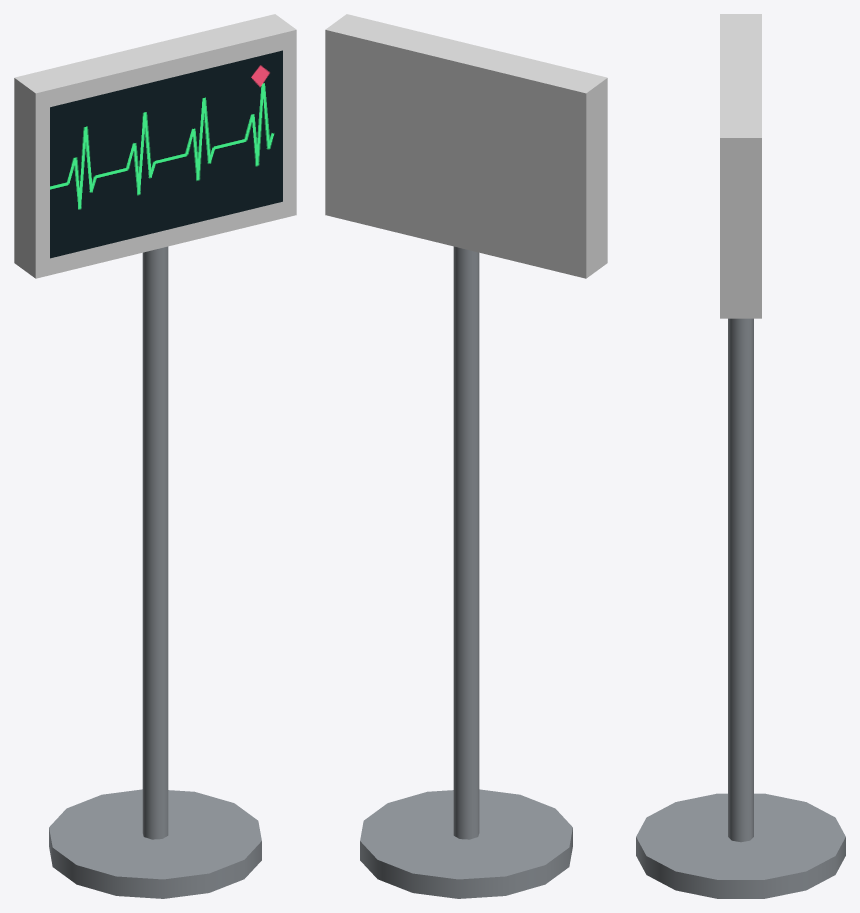
File: heart_monitor.glb
The picture shows the model from 3 angles, left to right: view 1: azimuth 30°, elevation 25°; view 2: azimuth 150°, elevation 25°; view 3: azimuth 270°, elevation 25°; orthographic projection. The views are drawn at different scales.
Visible parts, largest first — view 1: heart_monitor; view 2: heart_monitor; view 3: heart_monitor.
Boxes of the visible parts, left/top/right/bottom form: heart_monitor: left=14, top=14, right=296, bottom=898; heart_monitor: left=325, top=14, right=607, bottom=898; heart_monitor: left=636, top=14, right=845, bottom=898.
Size of the model in its own units: 0.56 by 1.64 by 0.4.
Materials: 3 (1 with a texture image).
